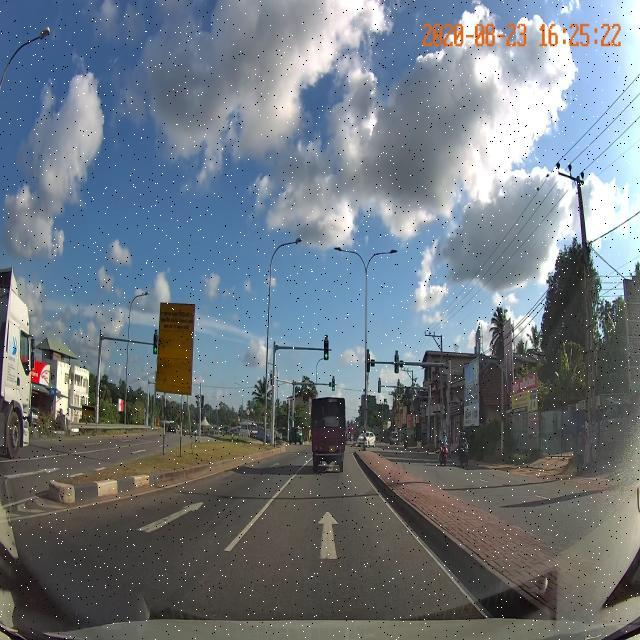forward: (212, 505, 453, 566)
